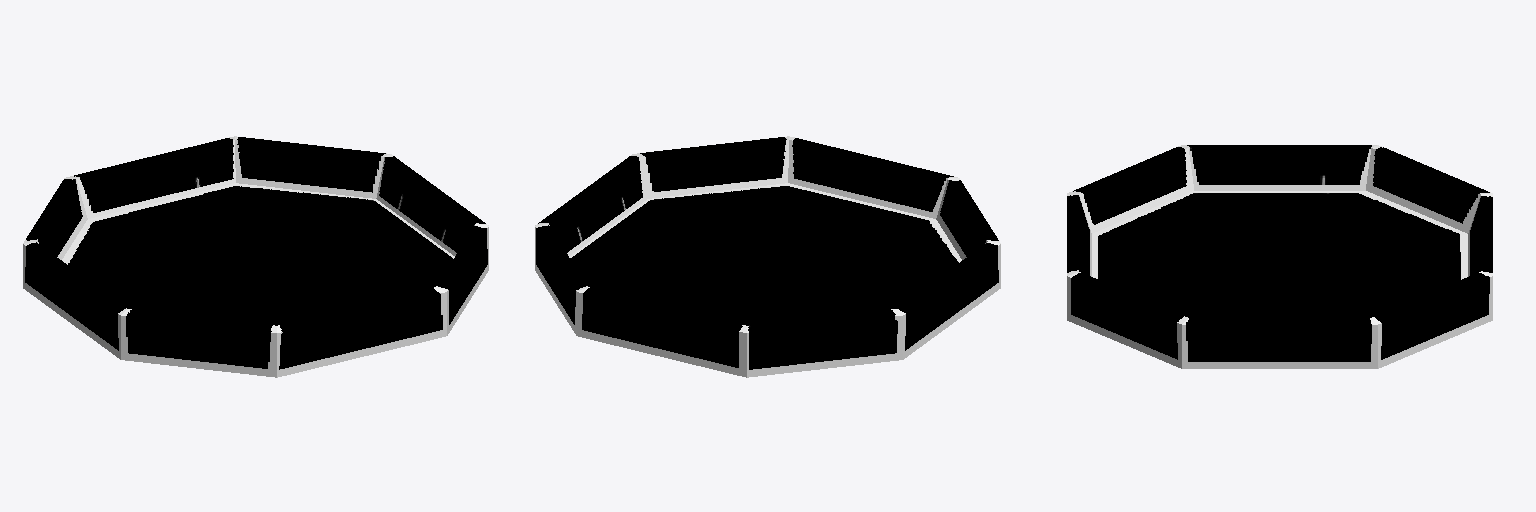
The picture shows the model from 3 angles: view 1: azimuth 30°, elevation 25°; view 2: azimuth 150°, elevation 25°; view 3: azimuth 270°, elevation 25°; orthographic projection.
Visible parts, largest first — view 1: floor.000; view 2: floor.000; view 3: floor.000.
Part boxes in pixels (x1,y1,x2,y2): floor.000: (23, 136, 488, 377); floor.000: (535, 136, 1000, 377); floor.000: (1067, 145, 1492, 368).
Size of the model in its own units: 32.5 by 3.92 by 32.5.
Materials: 1 (1 with a texture image).